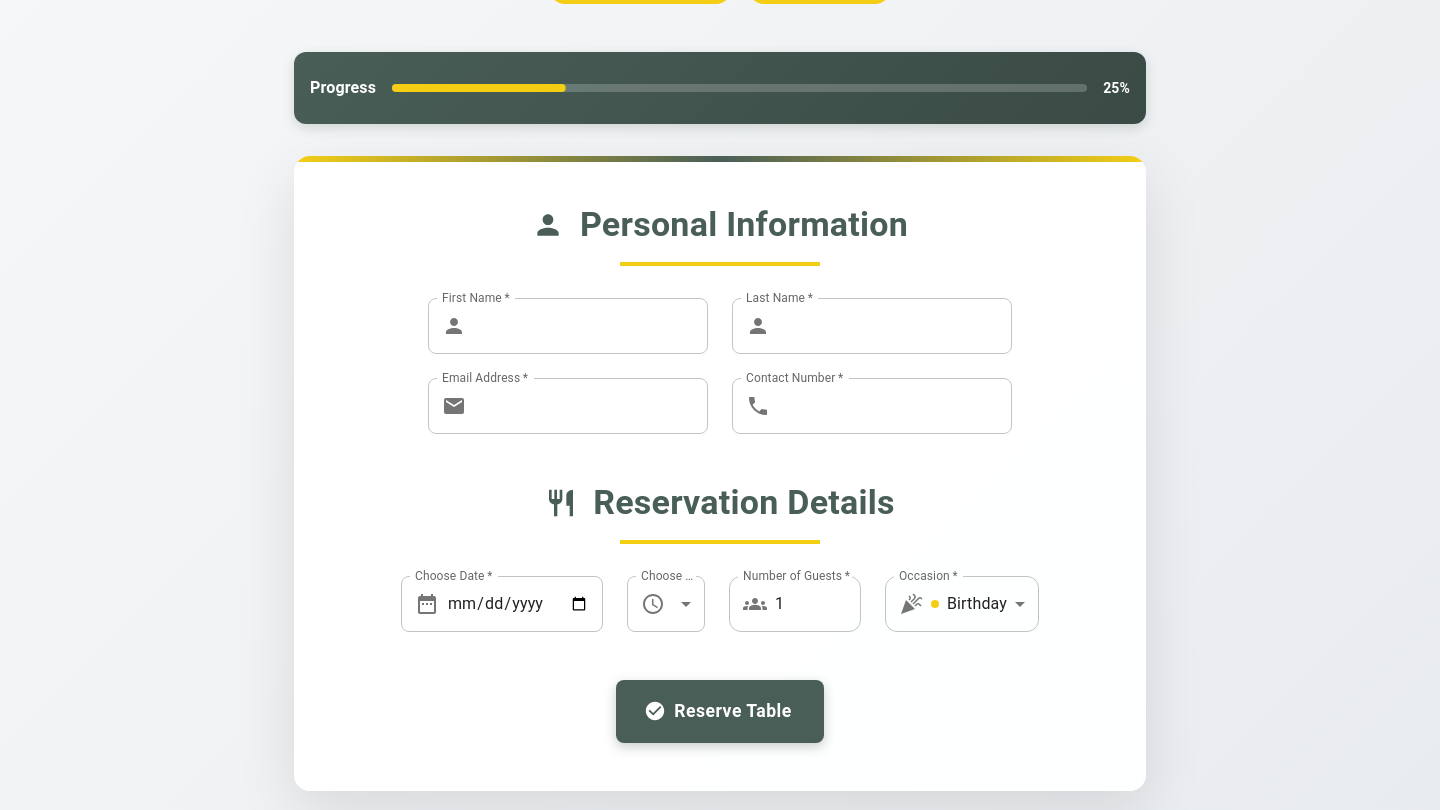
Test case: BookingForm with Formik validation › validates contact number format
This screenshot has width=1440, height=810.
(page scrolled)
Type "123" into the field labelled "Contact Number *" at (895, 406), box [778, 378, 1012, 434]
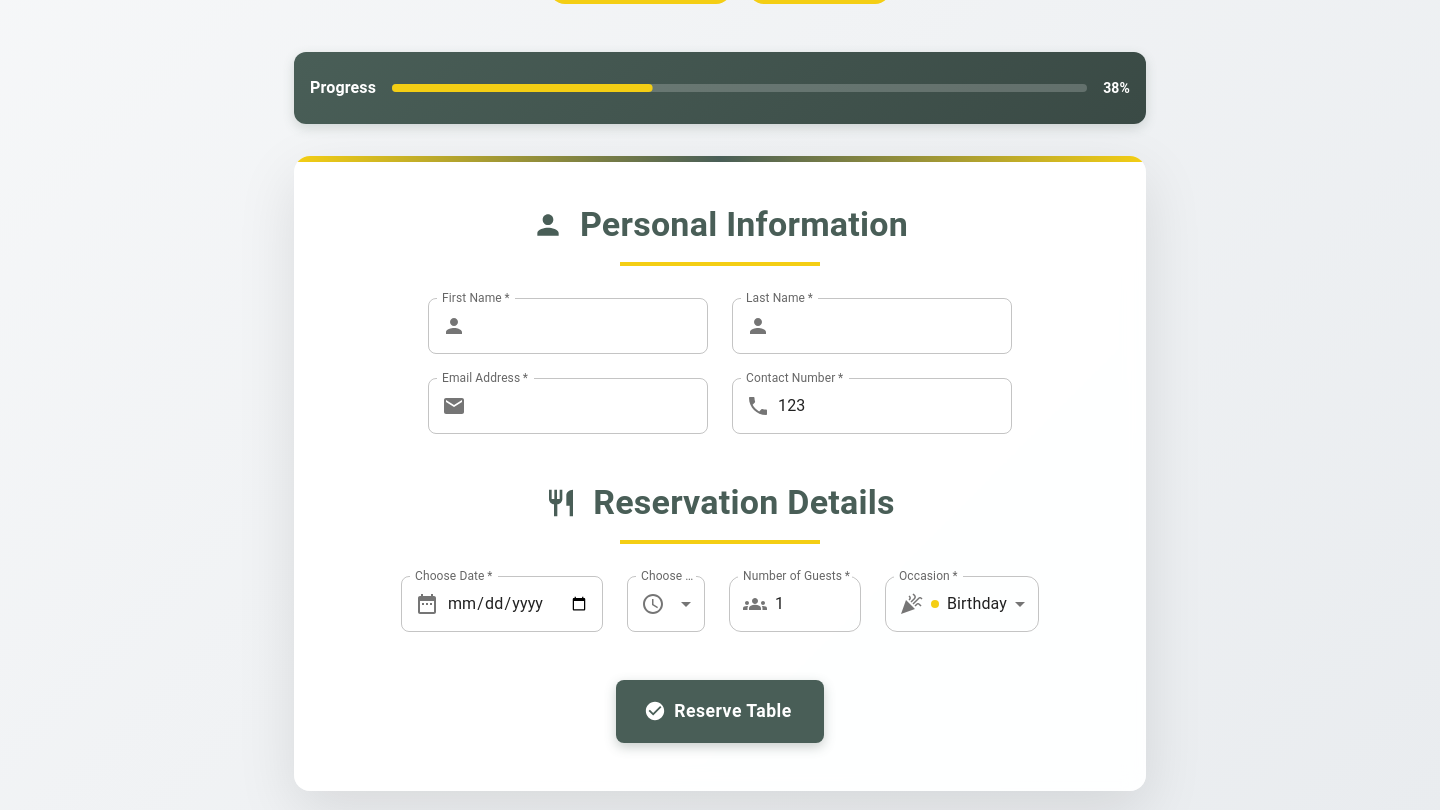
Leave the field labelled "Contact Number *", box [778, 378, 1012, 434]
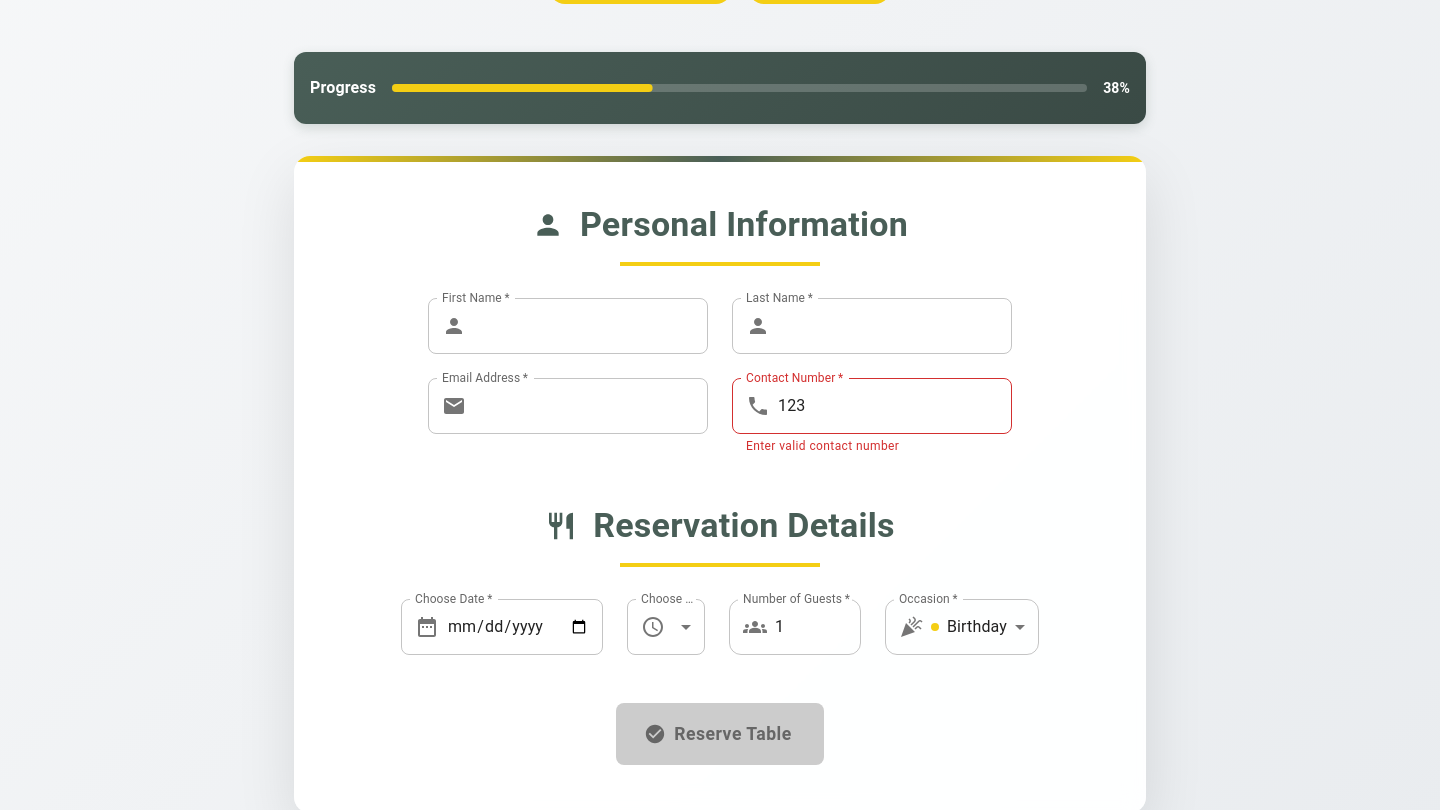
Check: the text "Enter valid contact number" is shown, box [746, 439, 899, 453]
